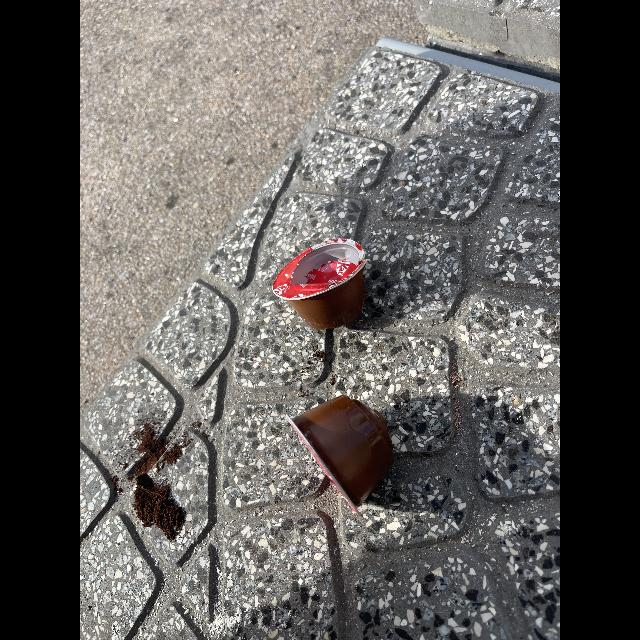damaged_capsule: (264, 229, 404, 339)
intact_capsule: (276, 385, 408, 515)
